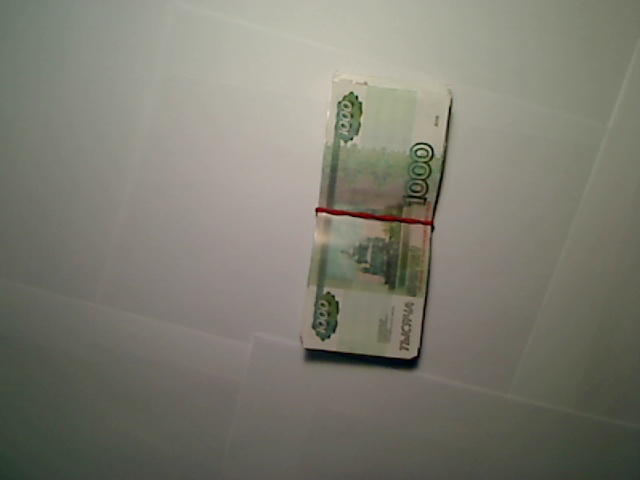banknotes: (298, 74, 452, 360)
